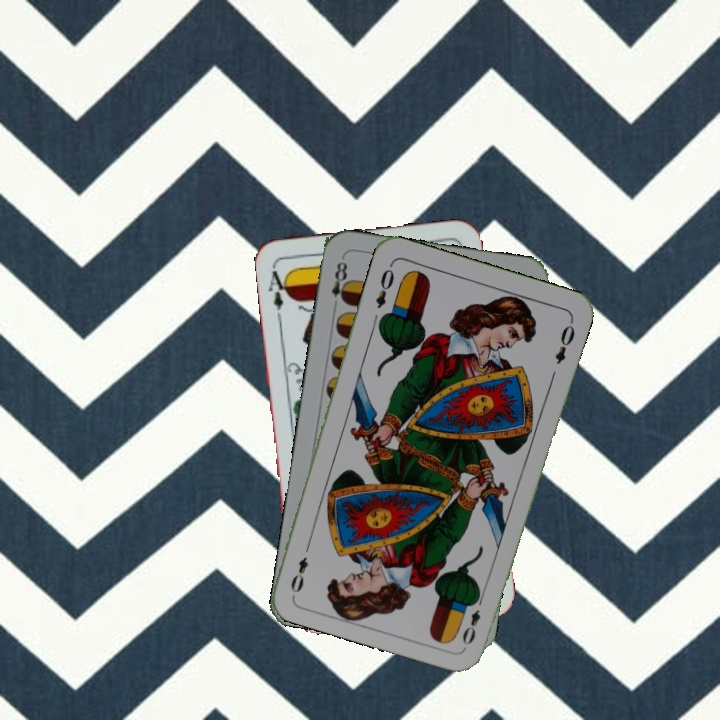E8: (327, 257, 352, 313)
EA: (264, 261, 292, 320)
EO: (458, 591, 486, 648), (371, 260, 397, 311)
